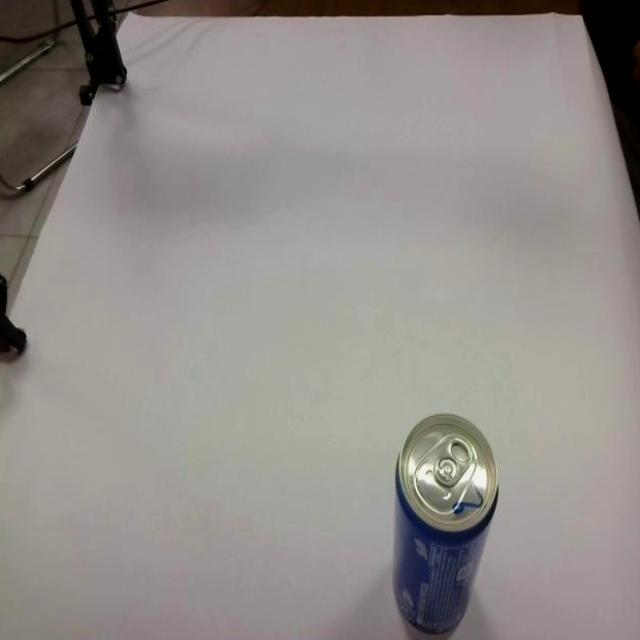debris: (391, 412, 500, 640)
